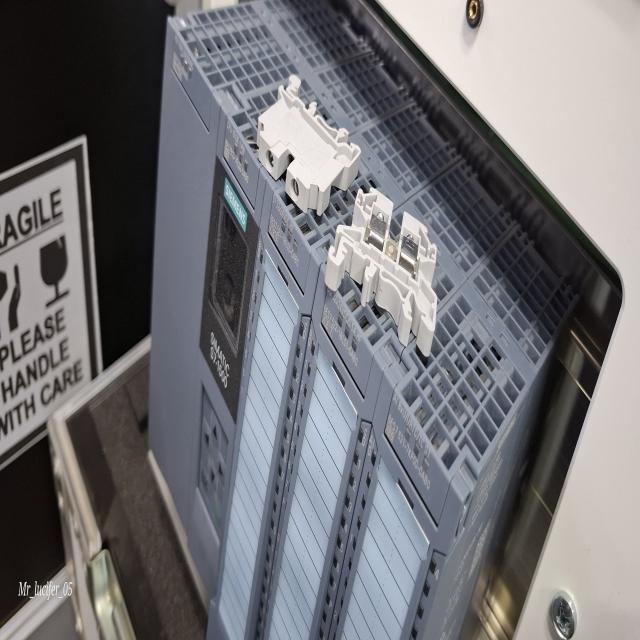Inverted: (248, 35, 368, 220)
Pass: (320, 139, 438, 368)
